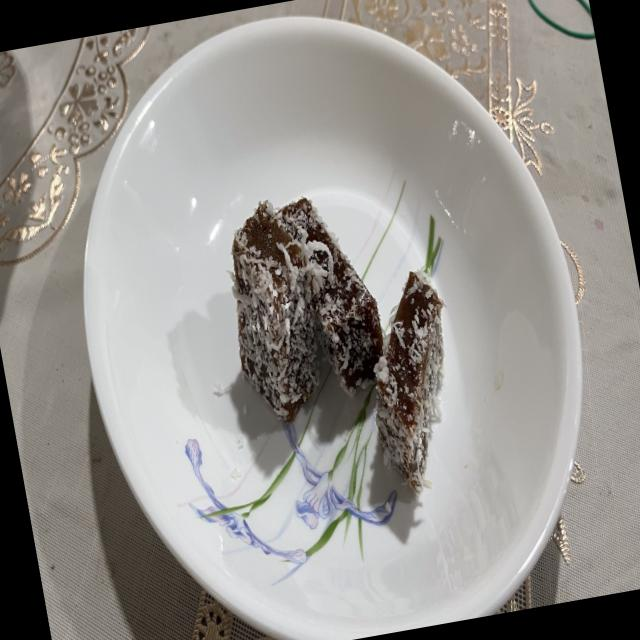kaswi: (273, 196, 384, 395), (231, 203, 319, 429), (374, 270, 444, 492)
